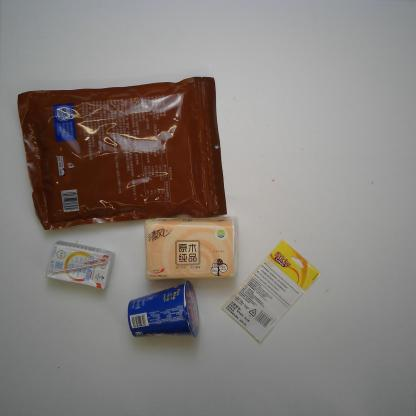Dessert: (125, 279, 203, 340)
Dried Food: (17, 76, 226, 233)
Milk: (44, 239, 115, 291)
Stationery: (217, 238, 321, 346)
Tissue: (142, 214, 240, 280)
